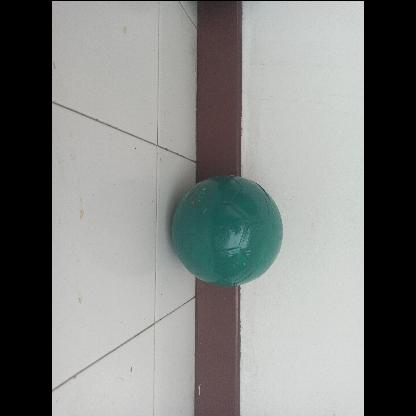green_ball: (171, 172, 285, 286)
